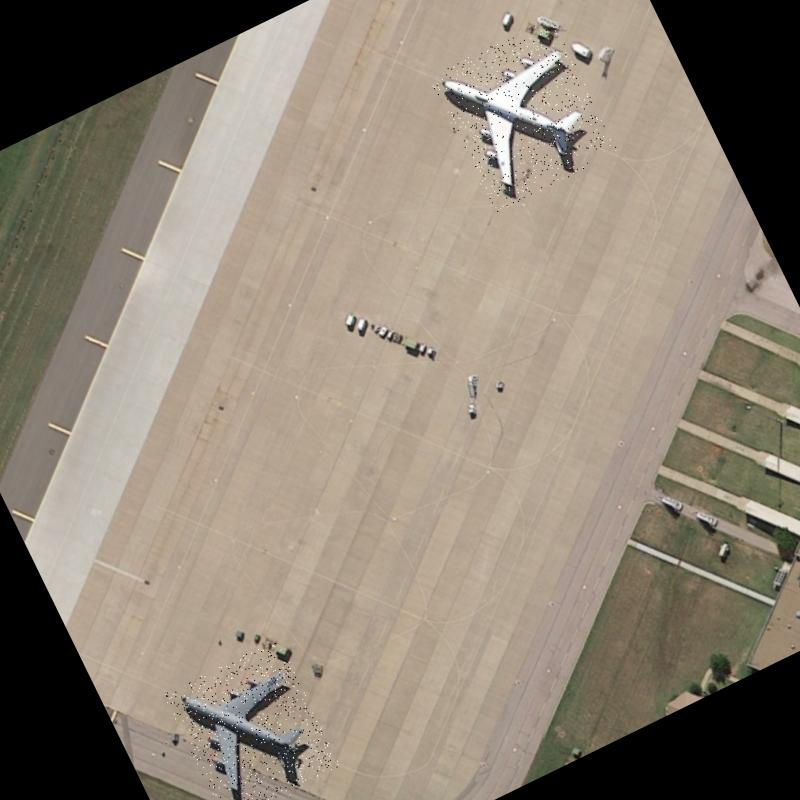A11: (428, 15, 618, 212)
A14: (163, 637, 340, 800)
